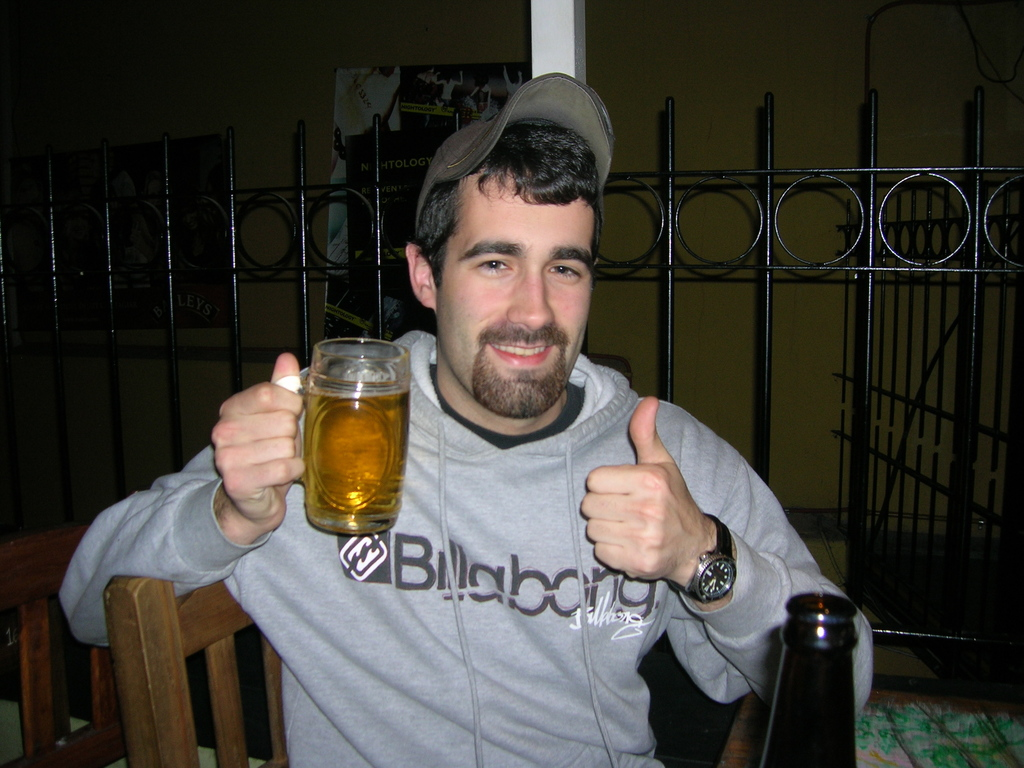Beer: (304, 380, 405, 537)
